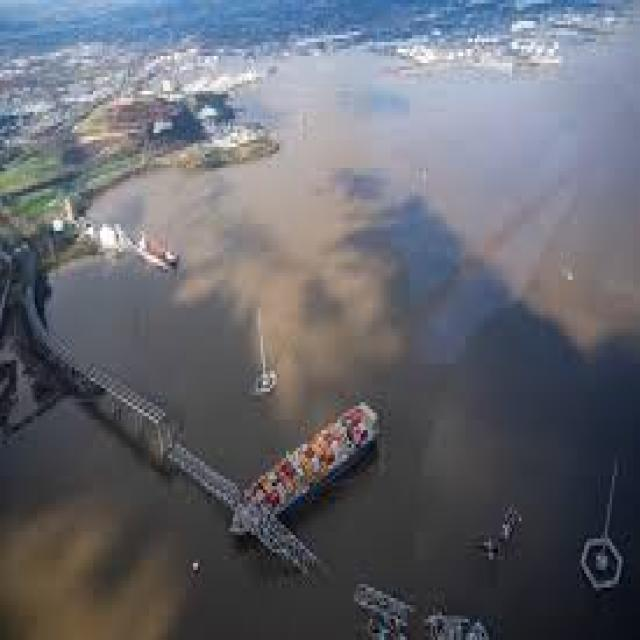bridge collapse: (116, 394, 464, 640)
